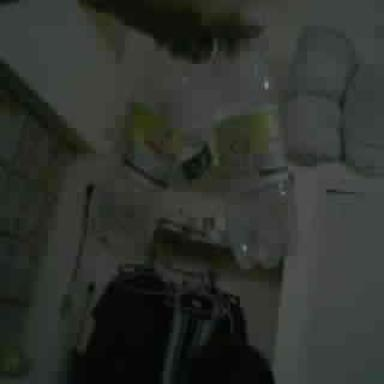bottle: (77, 53, 188, 263), (214, 33, 301, 274)
